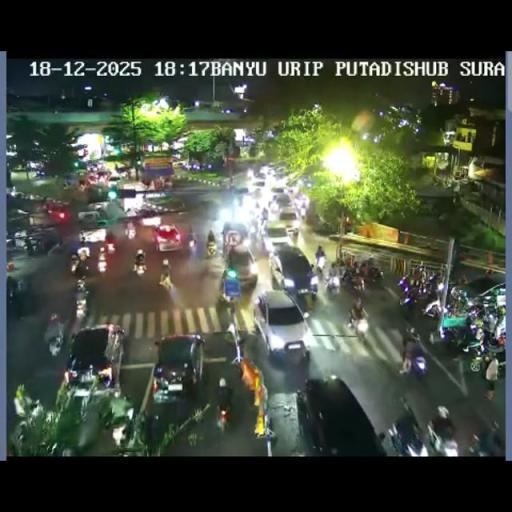Car: (298, 374, 385, 454), (62, 324, 126, 401), (253, 290, 310, 362), (151, 332, 205, 402), (222, 238, 258, 292), (140, 195, 186, 216), (154, 223, 184, 251), (46, 204, 70, 222), (78, 210, 99, 224), (249, 179, 266, 194), (270, 184, 288, 197), (108, 174, 122, 186), (172, 160, 189, 169)
Motorcycle: (72, 395, 110, 451), (436, 311, 477, 355), (388, 409, 427, 455), (398, 274, 440, 314), (471, 322, 505, 369), (398, 330, 426, 377), (426, 420, 460, 456), (471, 422, 503, 457), (6, 274, 28, 316), (346, 309, 369, 344), (143, 410, 162, 446), (74, 279, 90, 319), (10, 418, 30, 450), (214, 398, 232, 432), (216, 288, 234, 322), (341, 267, 364, 291), (363, 265, 385, 288), (464, 303, 486, 325), (24, 235, 46, 256), (226, 320, 240, 352), (448, 285, 469, 306), (6, 234, 27, 254), (158, 260, 172, 289), (326, 270, 340, 296), (48, 332, 63, 355), (74, 258, 89, 280), (307, 270, 319, 296), (96, 248, 108, 273), (249, 222, 263, 243), (132, 258, 146, 276), (187, 238, 198, 260), (221, 219, 232, 241), (314, 254, 326, 274), (287, 224, 299, 242), (77, 245, 90, 261), (418, 265, 428, 285), (106, 235, 116, 254), (206, 241, 217, 257), (125, 224, 136, 239), (206, 229, 216, 243), (458, 274, 468, 286), (270, 200, 279, 213), (261, 208, 268, 222), (300, 202, 306, 218), (80, 231, 86, 243), (136, 248, 143, 258)
